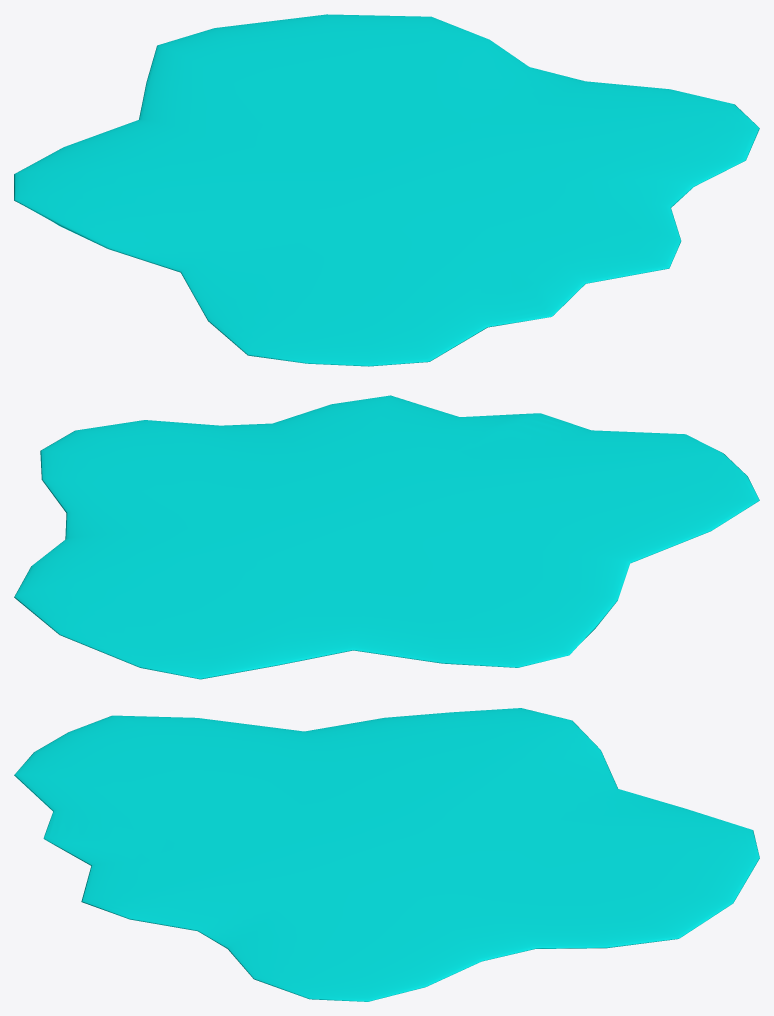
The model's file is Puddle.fbx.
The picture shows the model from 3 angles, top to bottom: view 1: azimuth 30°, elevation 25°; view 2: azimuth 150°, elevation 25°; view 3: azimuth 270°, elevation 25°; orthographic projection. The views are drawn at different scales.
Visible parts, largest first — view 1: pSphere1; view 2: pSphere1; view 3: pSphere1.
Part boxes in pixels (box(x1,y1,x2,y2)): pSphere1: box(14, 14, 759, 366); pSphere1: box(14, 395, 759, 679); pSphere1: box(14, 708, 759, 1001).
Bounding box in the file's own units: 4.28 × 0.0849 × 4.59.
